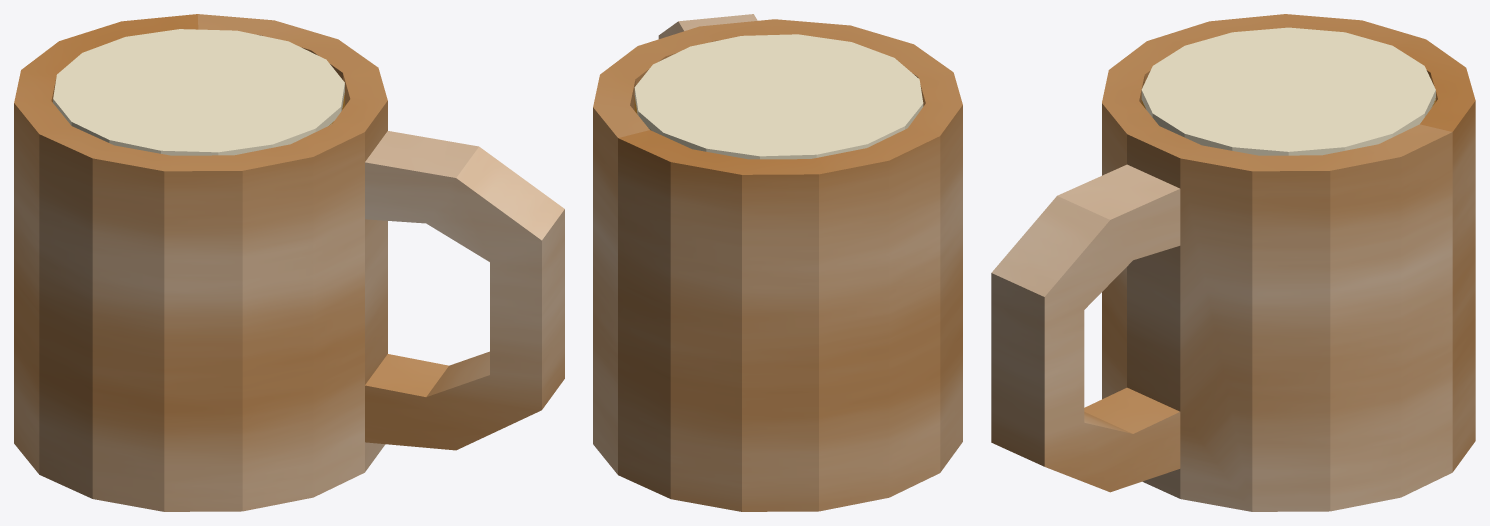
Rendered from BeerMug.fbx.
3 views of the same model, side by side, from view 1: azimuth 30°, elevation 25°; view 2: azimuth 150°, elevation 25°; view 3: azimuth 270°, elevation 25° (orthographic).
Visible parts, largest first — view 1: CC0 Tankard, Ale foam; view 2: CC0 Tankard, Ale foam; view 3: CC0 Tankard, Ale foam.
Boxes of the visible parts, box(x1,y1,x2,y2) form: CC0 Tankard: box(14, 14, 564, 511); Ale foam: box(53, 29, 344, 155); CC0 Tankard: box(593, 14, 962, 511); Ale foam: box(634, 34, 923, 159); CC0 Tankard: box(991, 14, 1475, 511); Ale foam: box(1141, 27, 1435, 155).
Size of the model in its own units: 51.81 by 42 by 53.64.
